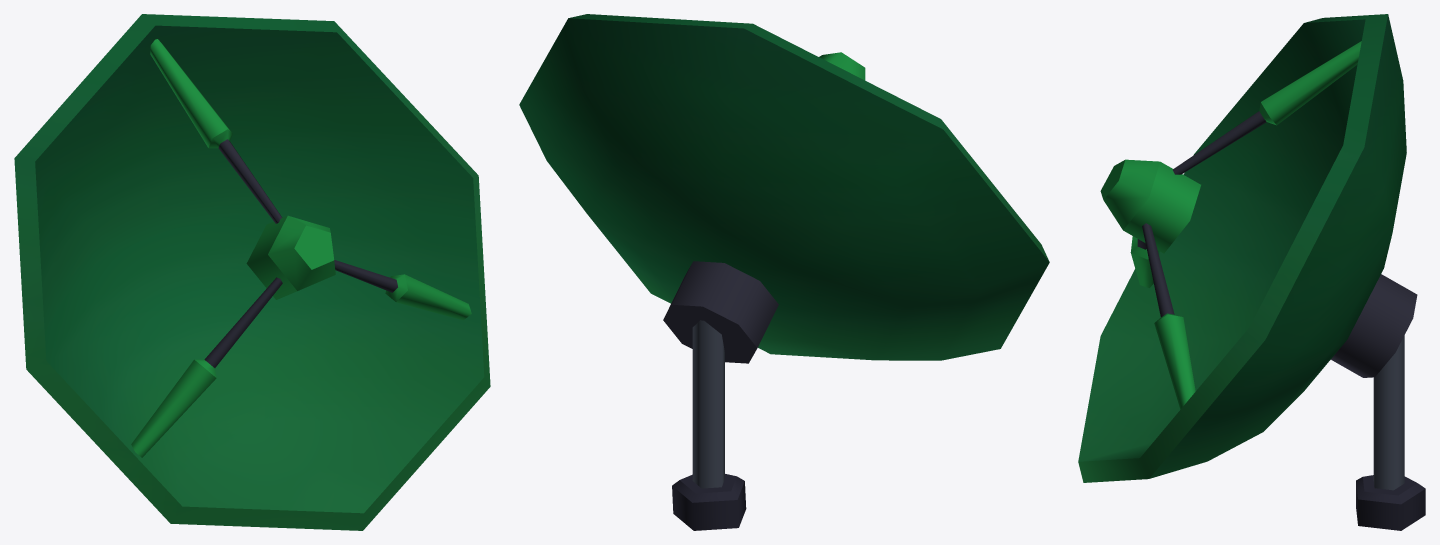
Rendered from Antene_2_E.fbx.
The picture shows the model from 3 angles, left to right: view 1: azimuth 30°, elevation 25°; view 2: azimuth 150°, elevation 25°; view 3: azimuth 270°, elevation 25°; orthographic projection. The views are drawn at different scales.
Visible parts, largest first — view 1: Antene_2_E_1; view 2: Antene_2_E_1, Antene_2_E_1h; view 3: Antene_2_E_1, Antene_2_E_1h.
Boxes of the visible parts, <box> form: Antene_2_E_1: <box>14,14,490,530</box>; Antene_2_E_1: <box>519,14,1049,363</box>; Antene_2_E_1h: <box>672,320,746,530</box>; Antene_2_E_1: <box>1078,14,1417,482</box>; Antene_2_E_1h: <box>1356,335,1425,530</box>.
Bounding box in the file's own units: 1.42 × 1.34 × 0.8686.
